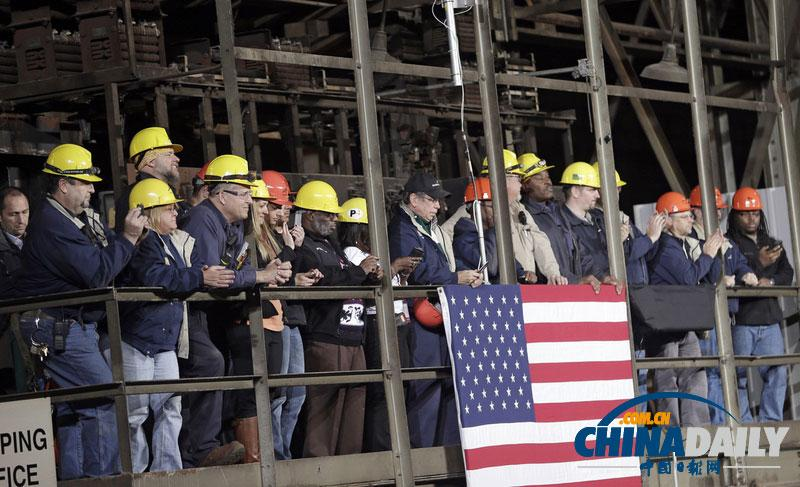helmet: (45, 146, 106, 185), (127, 126, 187, 162), (295, 182, 344, 217), (129, 185, 181, 215), (207, 155, 251, 186), (410, 292, 446, 329), (562, 162, 602, 191), (690, 182, 726, 211), (483, 150, 521, 175), (267, 172, 292, 208), (655, 192, 692, 215), (338, 195, 368, 223), (462, 176, 495, 200), (518, 155, 554, 177), (734, 187, 765, 210)
